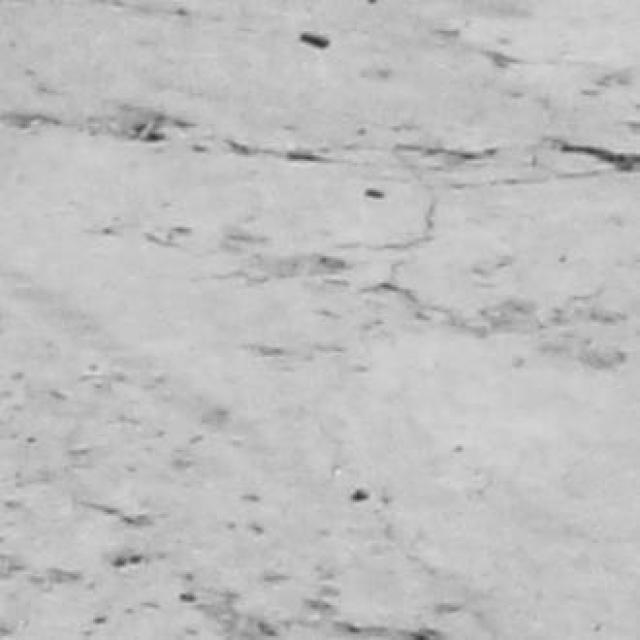crack: (555, 140, 639, 172)
